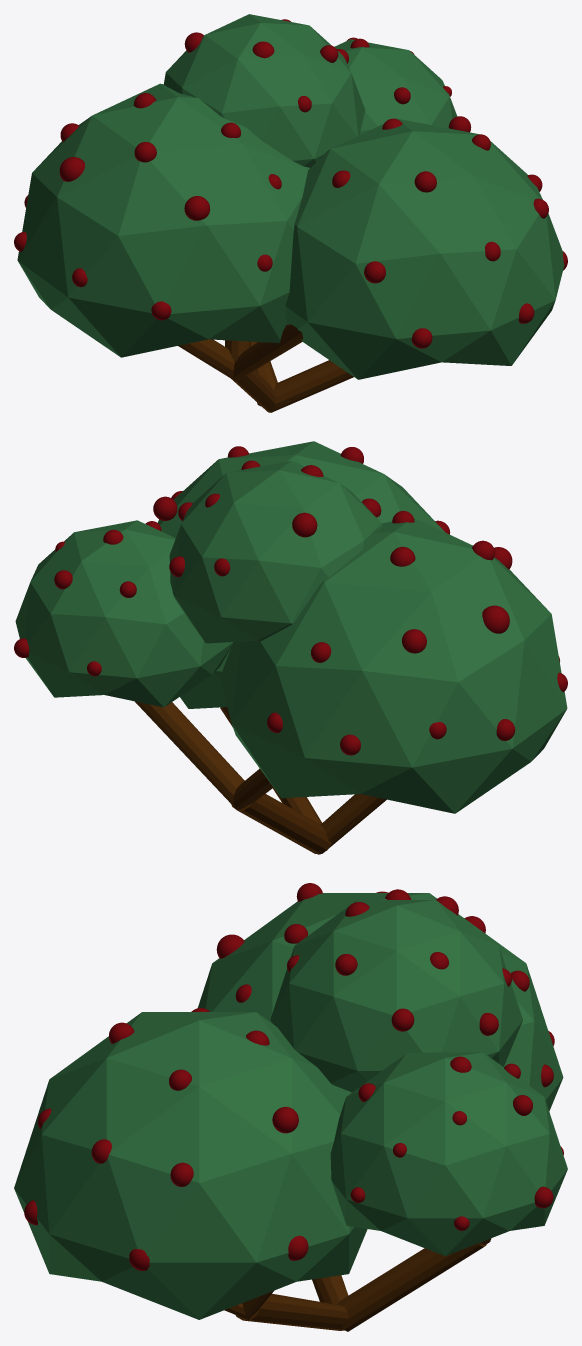
File: berry_bush_variant2.fbx
The picture shows the model from 3 angles, top to bottom: view 1: azimuth 30°, elevation 25°; view 2: azimuth 150°, elevation 25°; view 3: azimuth 270°, elevation 25°; orthographic projection. The views are drawn at different scales.
Parts seen in each view (by area): view 1: Icosphere.006, Icosphere.018, Icosphere.009, Icosphere.008, Vert, Sphere.001, Sphere; view 2: Icosphere.006, Icosphere.008, Icosphere.009, Vert, Icosphere.018, Sphere; view 3: Icosphere.018, Icosphere.008, Icosphere.009, Icosphere.006, Vert, Sphere.019.
Boxes of the visible parts, x1=… form: Icosphere.006: x1=17, y1=83, x2=309, y2=357; Icosphere.018: x1=285, y1=118, x2=564, y2=379; Icosphere.009: x1=163, y1=14, x2=365, y2=167; Icosphere.008: x1=334, y1=39, x2=457, y2=134; Vert: x1=178, y1=324, x2=353, y2=412; Sphere.001: x1=184, y1=196, x2=210, y2=220; Sphere: x1=59, y1=157, x2=85, y2=181; Icosphere.006: x1=220, y1=518, x2=567, y2=813; Icosphere.008: x1=15, y1=520, x2=233, y2=707; Icosphere.009: x1=169, y1=460, x2=382, y2=643; Vert: x1=135, y1=701, x2=386, y2=854; Icosphere.018: x1=157, y1=441, x2=445, y2=708; Sphere: x1=482, y1=605, x2=509, y2=633; Icosphere.018: x1=14, y1=1012, x2=367, y2=1319; Icosphere.008: x1=330, y1=1052, x2=567, y2=1256; Icosphere.009: x1=270, y1=900, x2=522, y2=1092; Icosphere.006: x1=198, y1=893, x2=563, y2=1110; Vert: x1=224, y1=1238, x2=491, y2=1331; Sphere.019: x1=272, y1=1106, x2=298, y2=1133.
Size of the model in its own units: 76.9 by 61.05 by 70.44.
